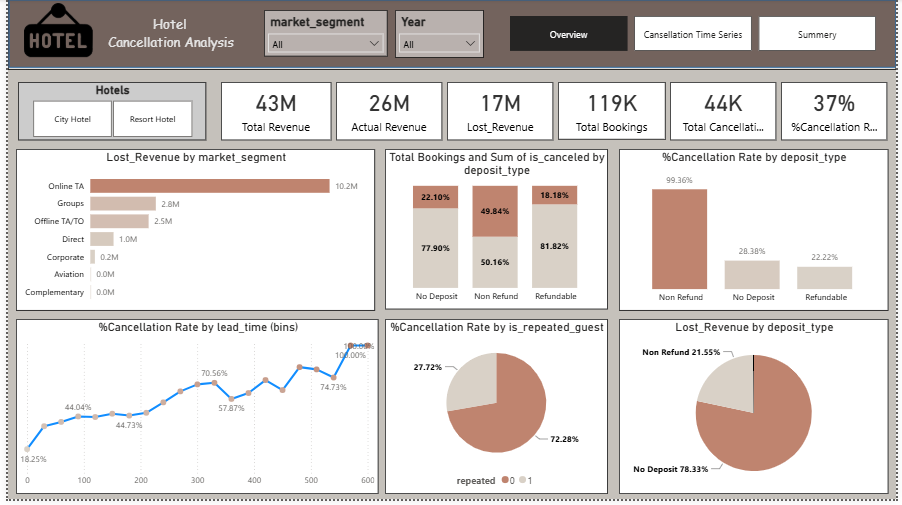

This screenshot's page, from the dashboard's own definition file:
{"tool":"powerbi","page":{"name":"Overview","canvas":[1280,720],"ordinal":0},"visuals":[{"type":"shape","box":[0,0,1279.3,101.7],"z":0},{"type":"advanceCardE03760C5AB684758B56AA29F9E6C257B","fields":{"mainMeasure":["Measures (2).Total Revenue"]},"box":[306.9,119.3,158.6,84.5],"z":1000},{"type":"advanceCardE03760C5AB684758B56AA29F9E6C257B","fields":{"mainMeasure":["Measures (2).Actual Revenue"]},"box":[472.1,119.3,153.4,84.5],"z":2000},{"type":"advanceCardE03760C5AB684758B56AA29F9E6C257B","fields":{"mainMeasure":["Measures (2).Total Bookings"]},"box":[792.1,120.2,155.2,82.8],"z":3000},{"type":"advanceCardE03760C5AB684758B56AA29F9E6C257B","fields":{"mainMeasure":["Measures (2).%Cancellation Rate"]},"box":[1113.8,119.3,153.4,84.5],"z":4000},{"type":"advanceCardE03760C5AB684758B56AA29F9E6C257B","fields":{"mainMeasure":["Measures (2).Total Cancellations"]},"box":[953.8,119.3,153.4,84.5],"z":5000},{"type":"clusteredColumnChart","fields":{"Category":["Dim_Market_Channel.deposit_type"],"Y":["Measures (2).%Cancellation Rate"]},"box":[879.3,215.5,387.9,232.8],"z":6000},{"type":"hundredPercentStackedColumnChart","title":"Total Bookings and Sum of is_canceled by deposit_type","fields":{"Category":["Dim_Market_Channel.deposit_type"],"Y":["Measures (2).Total Bookings","Sum(Fact_Table.is_canceled)"]},"box":[543.1,215.5,320.7,231],"z":7000},{"type":"lineChart","fields":{"Y":["Measures (2).%Cancellation Rate"],"Category":["Fact_Table.lead_time (bins)"]},"box":[12.1,460.3,522.4,251.7],"z":8000},{"type":"pieChart","fields":{"Category":["Fact_Table.is_repeated_guest"],"Y":["Measures (2).%Cancellation Rate"]},"box":[543.1,460.3,320.7,251.7],"z":9000},{"type":"advanceCardE03760C5AB684758B56AA29F9E6C257B","fields":{"mainMeasure":["Measures (2).Lost_Revenue"]},"box":[632.1,119.3,153.4,84.5],"z":10000},{"type":"clusteredBarChart","fields":{"Category":["Dim_Market_Channel.market_segment"],"Y":["Measures (2).Lost_Revenue"]},"box":[12.1,215.5,517.2,232.8],"z":11000},{"type":"pieChart","fields":{"Y":["Measures (2).Lost_Revenue"],"Category":["Dim_Market_Channel.deposit_type"]},"box":[879.3,460.3,387.9,251.7],"z":12000},{"type":"slicer","title":"Hotels","fields":{"Values":["Dim_Hotel_Services.hotel"]},"box":[13.8,119.3,270.7,84.5],"z":13000},{"type":"slicer","fields":{"Values":["Dim_Date.Year"]},"box":[556.9,15.5,127.6,69],"z":14000},{"type":"slicer","fields":{"Values":["Dim_Market_Channel.market_segment"]},"box":[369,15.5,177.6,67.2],"z":15000},{"type":"pageNavigator","box":[722.4,24.1,529.3,50],"z":16000},{"type":"image","box":[10.3,5.2,124.1,77.6],"z":17000},{"type":"textbox","box":[134.5,17.2,198.3,69],"z":18000}]}

Visuals, with their boxes in screenshot pixels (x1, y1, x2, y2), scaled from the page's 1280x720 canvas onto the 902x505 screenshot:
shape: detection(0, 0, 901, 71)
advanceCardE03760C5AB684758B56AA29F9E6C257B - Measures (2).Total Revenue: detection(216, 84, 328, 143)
advanceCardE03760C5AB684758B56AA29F9E6C257B - Measures (2).Actual Revenue: detection(333, 84, 441, 143)
advanceCardE03760C5AB684758B56AA29F9E6C257B - Measures (2).Total Bookings: detection(558, 84, 668, 142)
advanceCardE03760C5AB684758B56AA29F9E6C257B - Measures (2).%Cancellation Rate: detection(785, 84, 893, 143)
advanceCardE03760C5AB684758B56AA29F9E6C257B - Measures (2).Total Cancellations: detection(672, 84, 780, 143)
clusteredColumnChart - Dim_Market_Channel.deposit_type x Measures (2).%Cancellation Rate: detection(620, 151, 893, 314)
"Total Bookings and Sum of is_canceled by deposit_type" hundredPercentStackedColumnChart: detection(383, 151, 609, 313)
lineChart - Measures (2).%Cancellation Rate x Fact_Table.lead_time (bins): detection(9, 323, 377, 499)
pieChart - Fact_Table.is_repeated_guest x Measures (2).%Cancellation Rate: detection(383, 323, 609, 499)
advanceCardE03760C5AB684758B56AA29F9E6C257B - Measures (2).Lost_Revenue: detection(445, 84, 554, 143)
clusteredBarChart - Dim_Market_Channel.market_segment x Measures (2).Lost_Revenue: detection(9, 151, 373, 314)
pieChart - Measures (2).Lost_Revenue x Dim_Market_Channel.deposit_type: detection(620, 323, 893, 499)
"Hotels" slicer: detection(10, 84, 200, 143)
slicer - Dim_Date.Year: detection(392, 11, 482, 59)
slicer - Dim_Market_Channel.market_segment: detection(260, 11, 385, 58)
pageNavigator: detection(509, 17, 882, 52)
image: detection(7, 4, 95, 58)
textbox: detection(95, 12, 235, 60)
